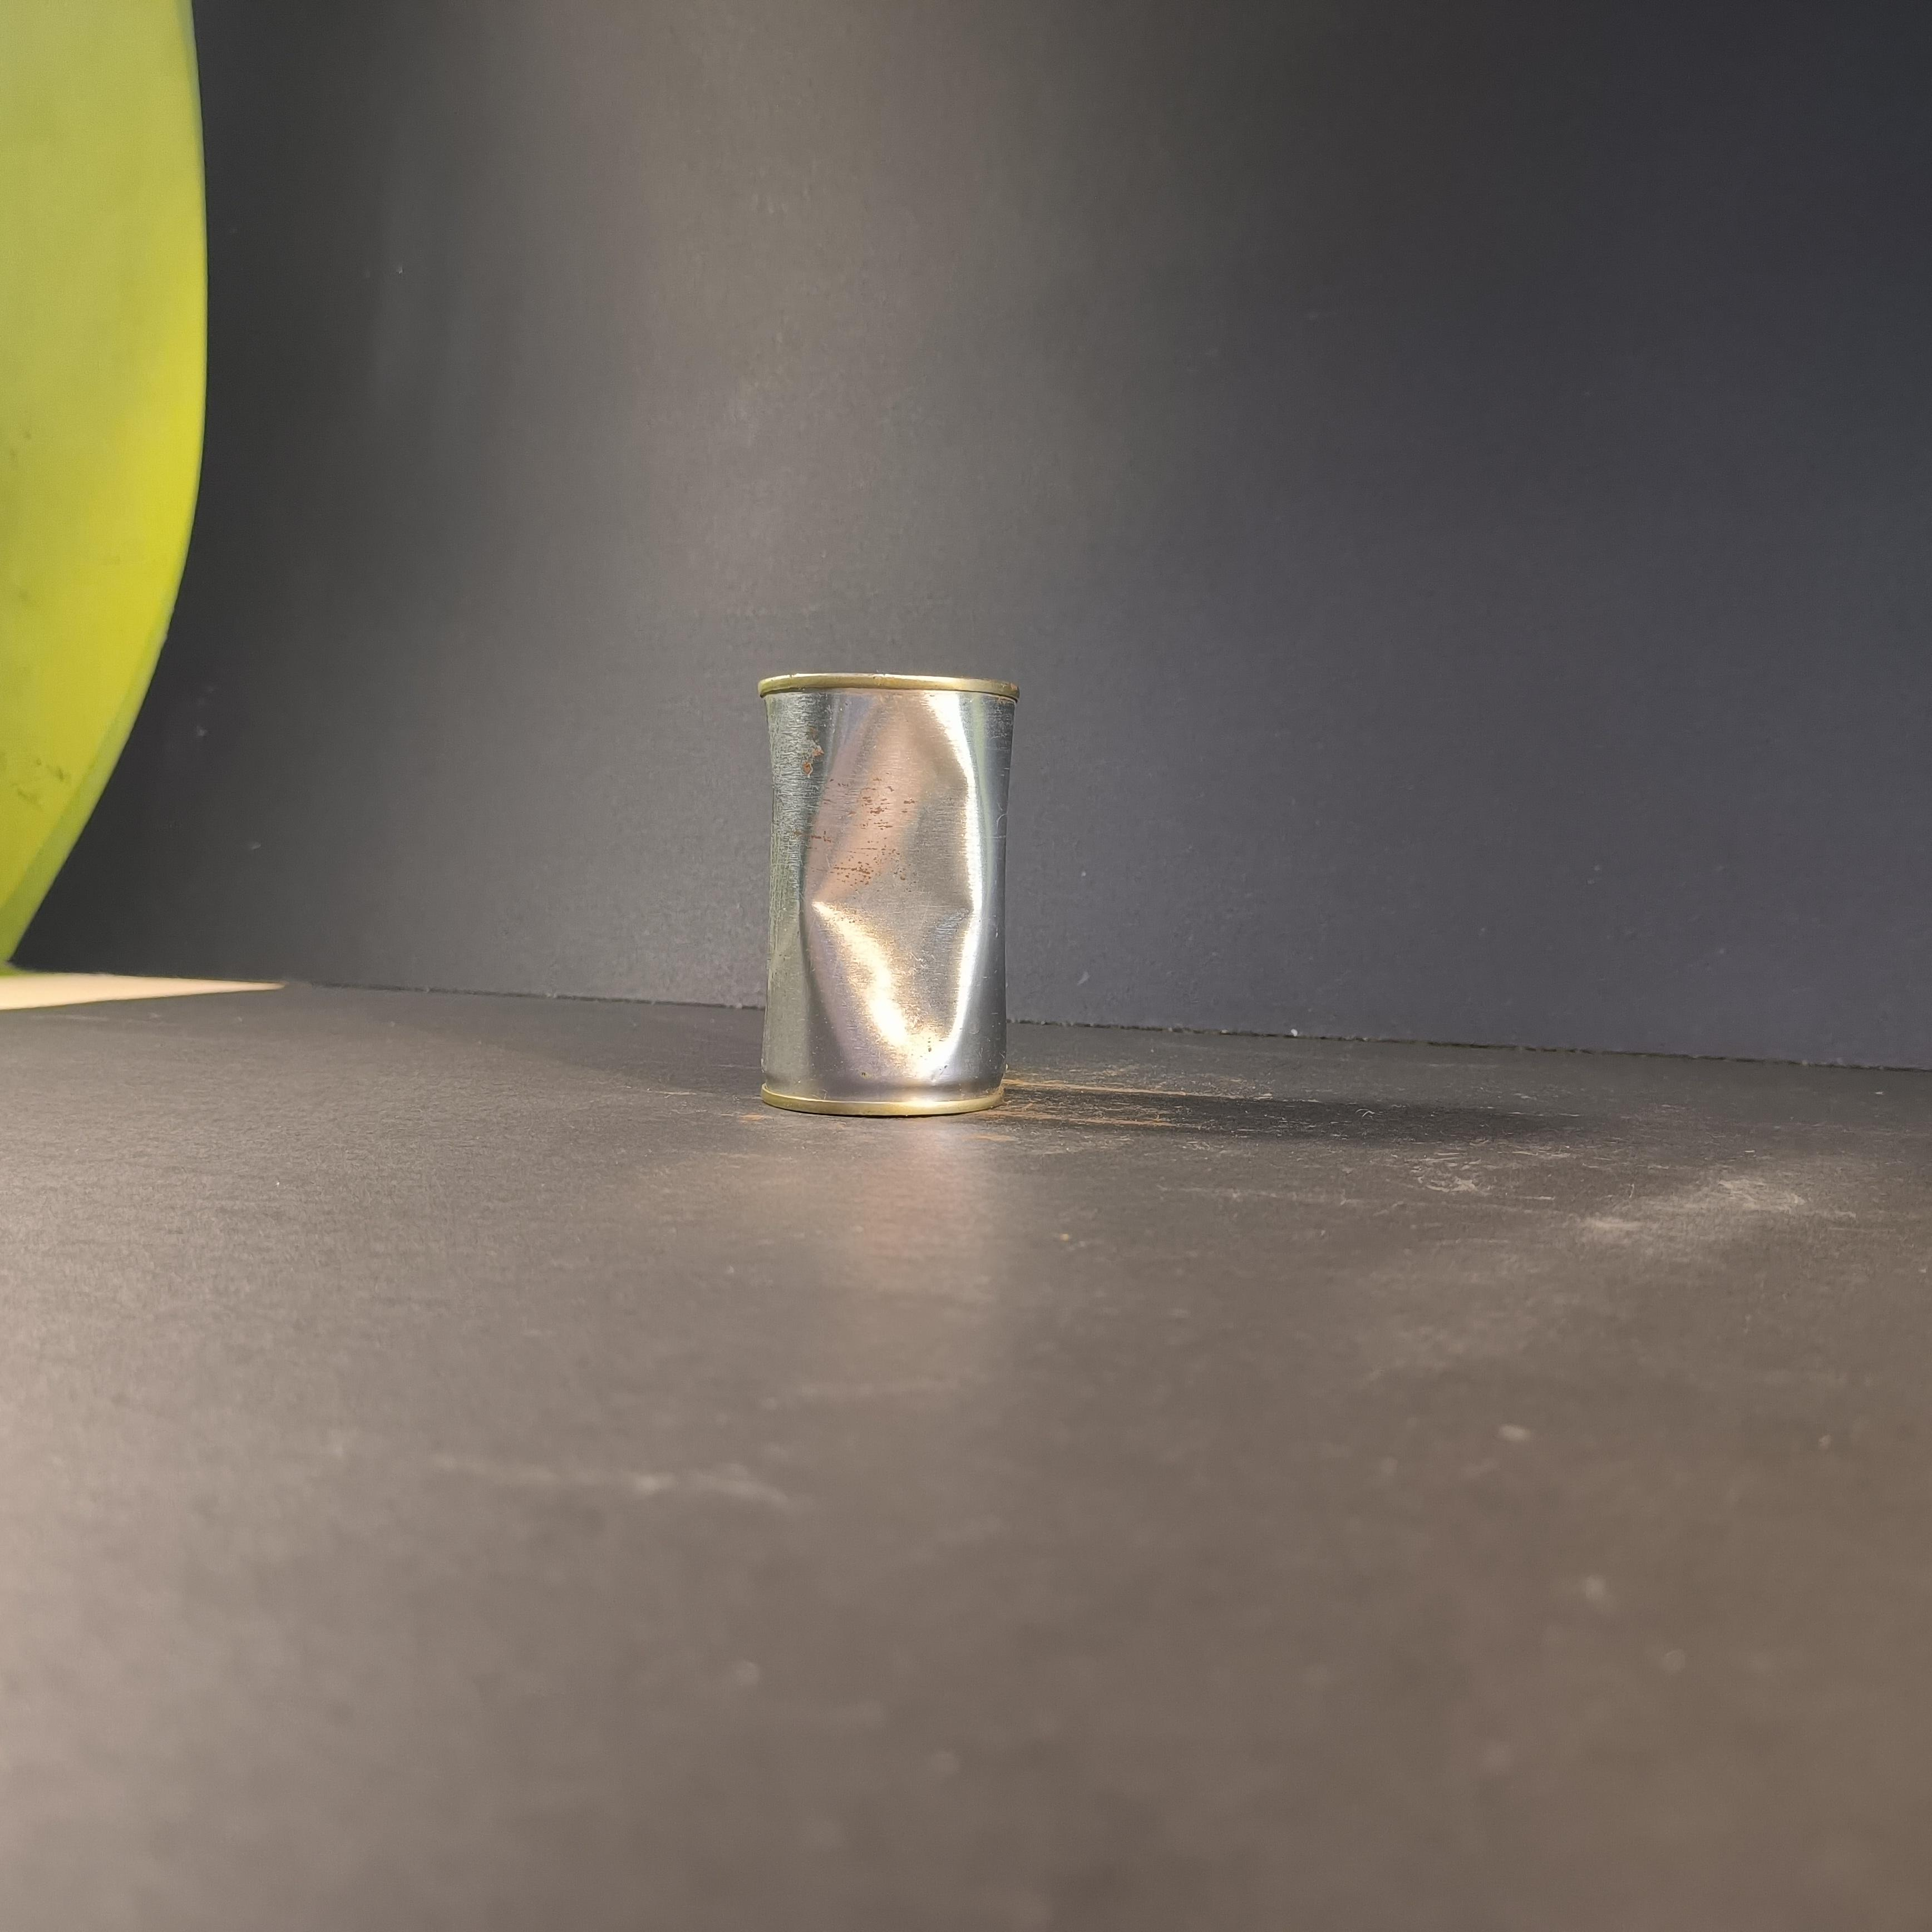Minor Defect: (758, 672, 1022, 1117)
